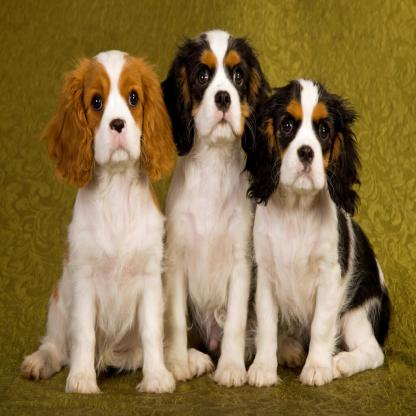Cavalier King Charles Spaniel: (241, 58, 401, 394), (43, 36, 179, 391), (163, 9, 266, 379)
